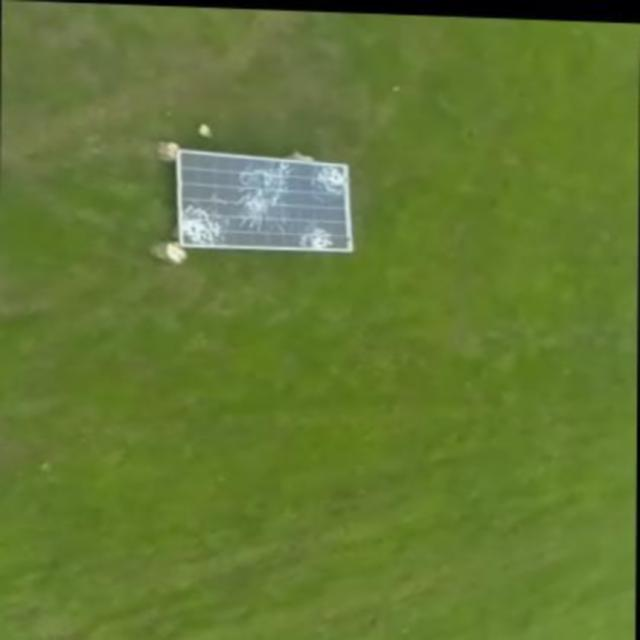cracked: (174, 152, 352, 259)
